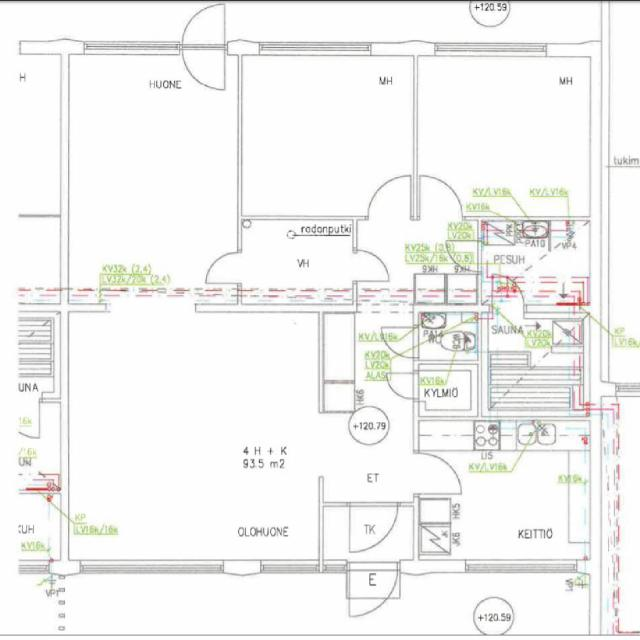door: (404, 559, 451, 619), (349, 502, 397, 553), (182, 42, 225, 96), (182, 1, 225, 55), (414, 452, 462, 493), (367, 175, 410, 219), (420, 174, 462, 219), (206, 252, 242, 284), (492, 275, 523, 312), (353, 250, 388, 281), (446, 242, 482, 272), (382, 327, 418, 357), (387, 373, 419, 398)
